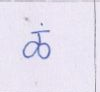anusvara: (40, 22, 44, 26)
